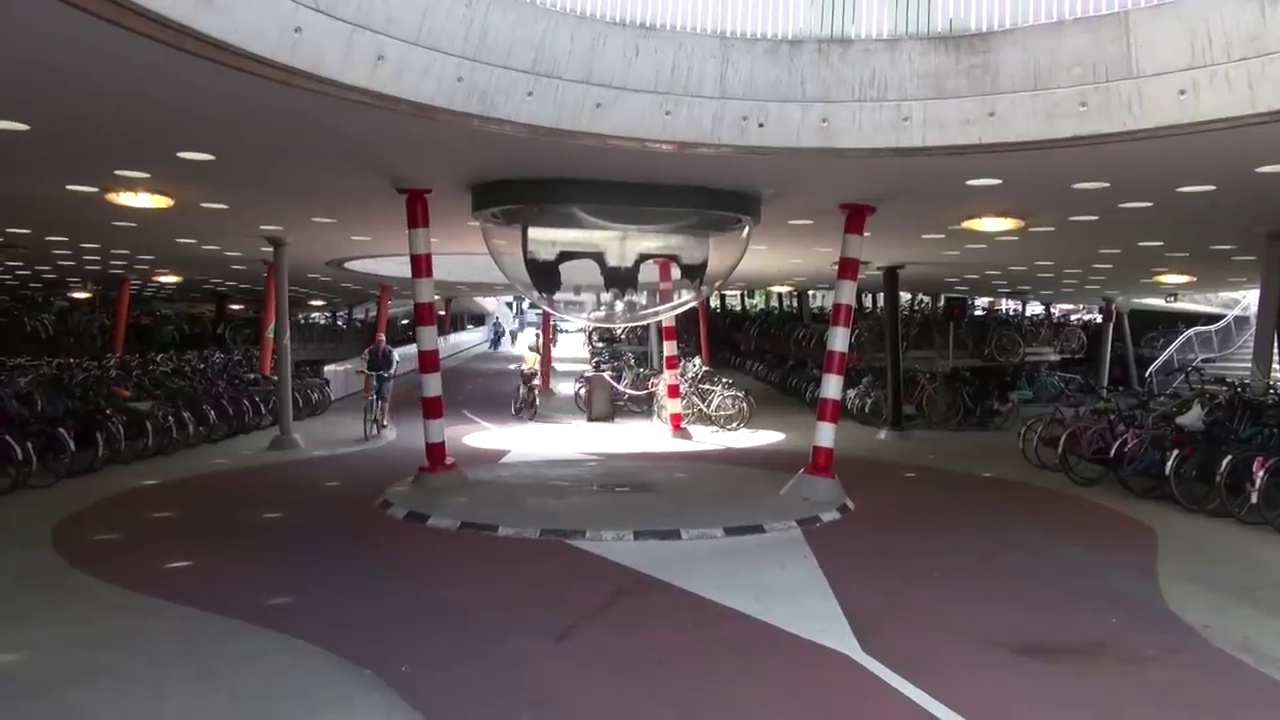cyclist_front: (359, 331, 396, 446)
